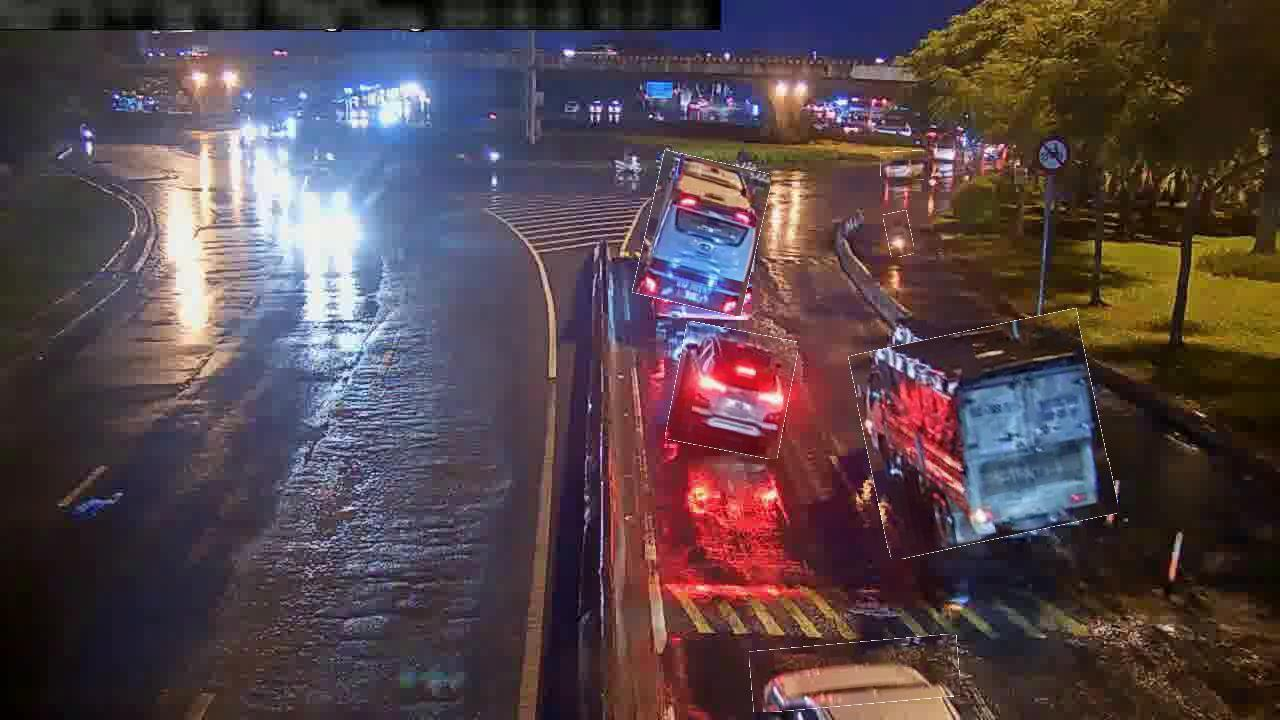14: (640, 156, 765, 312)
8: (858, 319, 1110, 550)
container: (670, 326, 794, 456), (750, 639, 960, 709), (881, 151, 925, 181)
motorbike: (885, 211, 913, 257)
